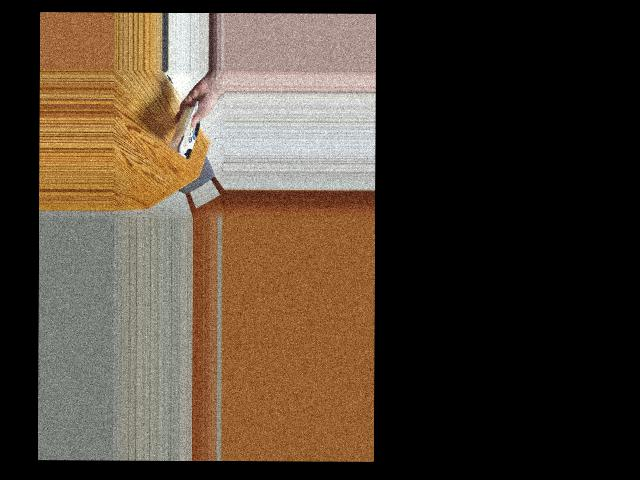cheese: (167, 105, 210, 156)
